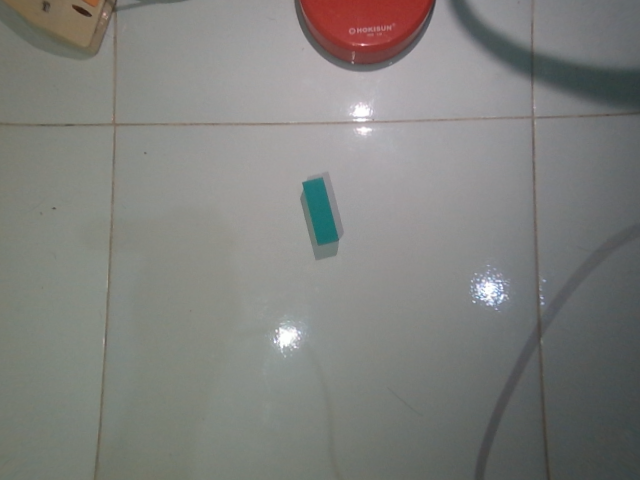Balok-Hijau: (301, 179, 341, 247)
